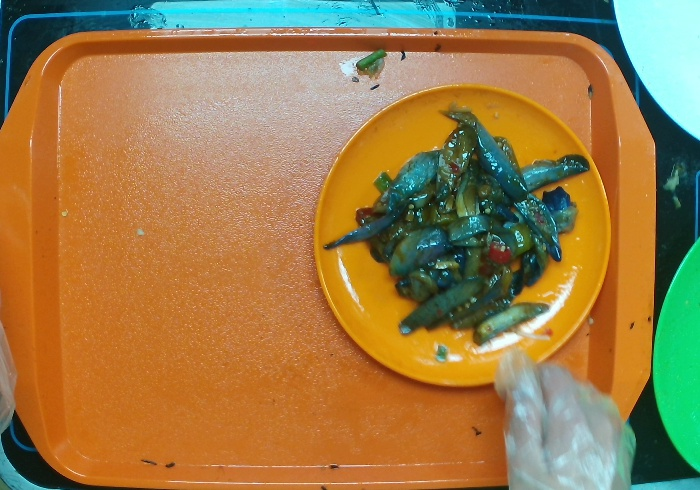HZYJPL-Ju_Huang_Yuan_Pan: (311, 79, 615, 392)
